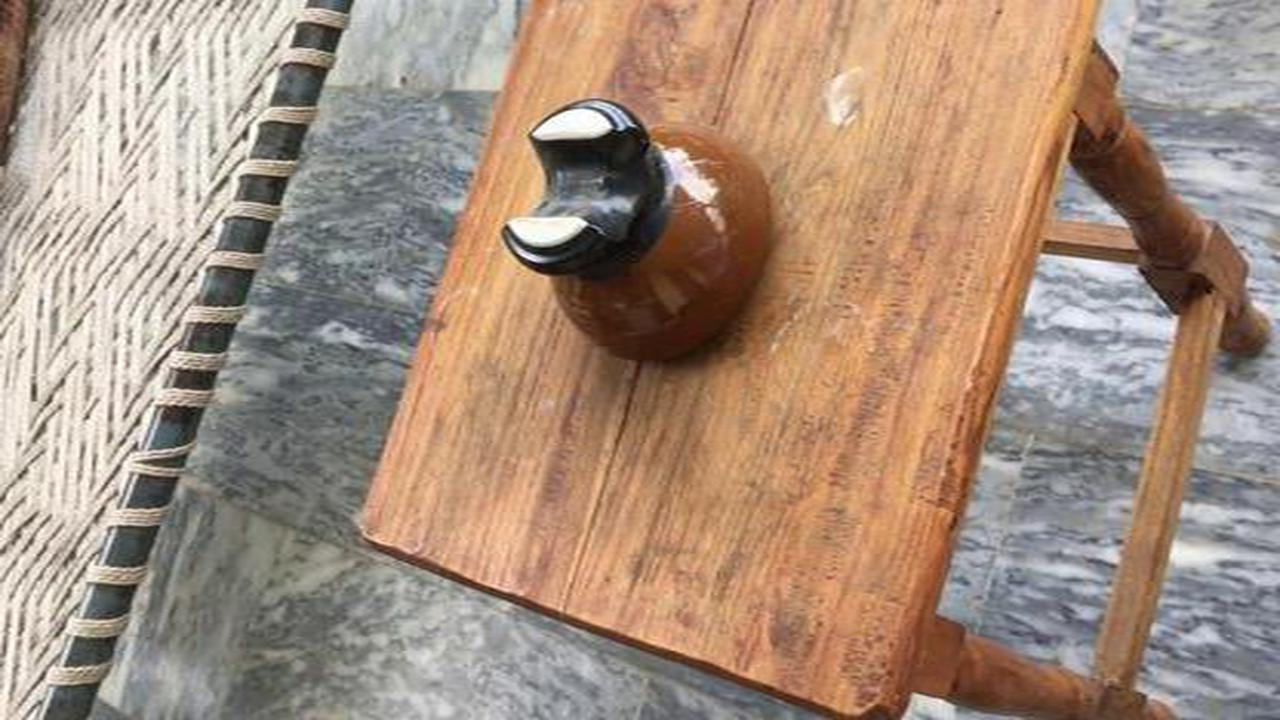insulator_pin: (490, 91, 801, 381)
